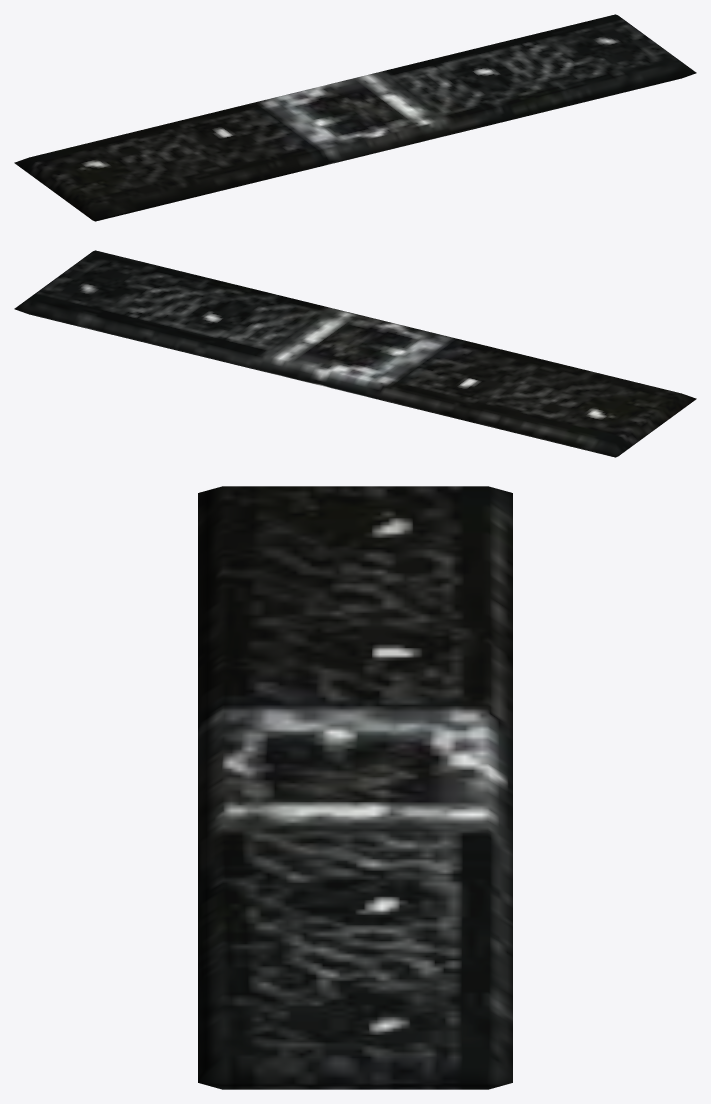
The model's file is KM_BELT_06.glb.
3 renders of one model, top to bottom at view 1: azimuth 30°, elevation 25°; view 2: azimuth 150°, elevation 25°; view 3: azimuth 270°, elevation 25°, orthographic. The views are drawn at different scales.
Visible parts, largest first — view 1: Mesh; view 2: Mesh; view 3: Mesh.
Boxes of the visible parts, x1=… form: Mesh: x1=14, y1=14, x2=696, y2=221; Mesh: x1=14, y1=250, x2=696, y2=457; Mesh: x1=198, y1=486, x2=512, y2=1089.
Bounding box in the file's own units: 0.372 × 0.0092 × 0.084.
Materials: 1 (1 with a texture image).
